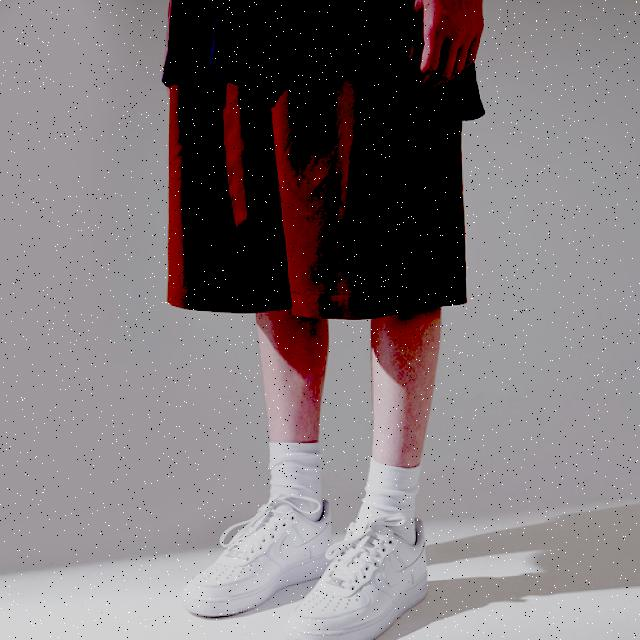Blouse_deep: (166, 53, 472, 308)
